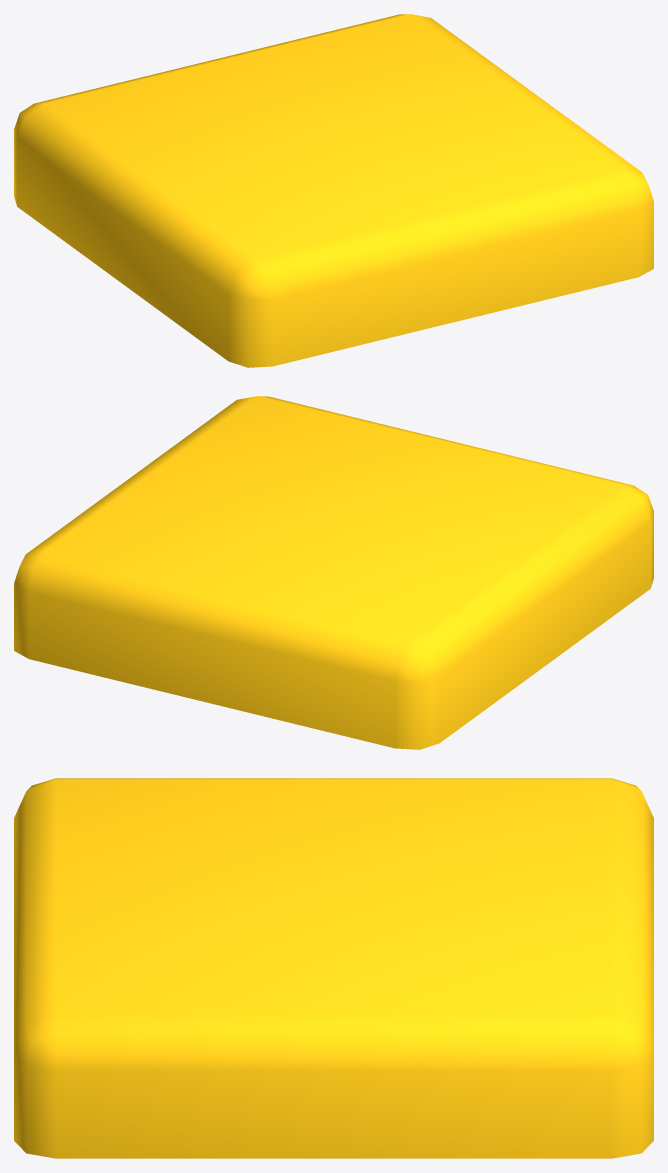
Rendered from button_square_yellow.glb.
3 renders of one model, top to bottom at view 1: azimuth 30°, elevation 25°; view 2: azimuth 150°, elevation 25°; view 3: azimuth 270°, elevation 25°, orthographic. The views are drawn at different scales.
Visible parts, largest first — view 1: Squareutton.003; view 2: Squareutton.003; view 3: Squareutton.003.
Boxes of the visible parts, x1,y1,x2,y2 form: Squareutton.003: (14,14,653,367); Squareutton.003: (14,396,653,749); Squareutton.003: (14,778,653,1158).
Size of what is drawn, in the model's own units: 0.1845 by 0.0403 by 0.1845.
Materials: 1 (1 with a texture image).
